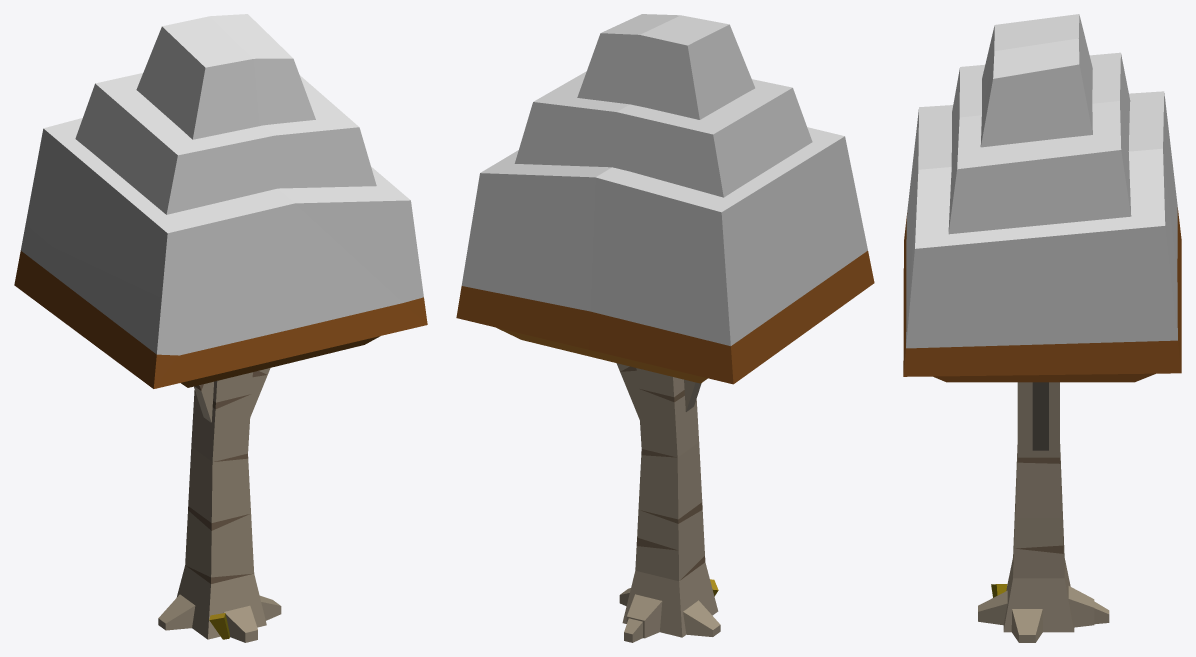
File: SF_Env_Tree_Snow_05.fbx
The picture shows the model from 3 angles, left to right: view 1: azimuth 30°, elevation 25°; view 2: azimuth 150°, elevation 25°; view 3: azimuth 270°, elevation 25°; orthographic projection.
Parts seen in each view (by area): view 1: SF_Env_Tree_Snow_05; view 2: SF_Env_Tree_Snow_05; view 3: SF_Env_Tree_Snow_05.
Part boxes in pixels (box(x1,y1,x2,y2)): SF_Env_Tree_Snow_05: box(14, 14, 427, 642); SF_Env_Tree_Snow_05: box(456, 14, 874, 642); SF_Env_Tree_Snow_05: box(903, 14, 1181, 642).
Bounding box in the file's own units: 3.53 × 7.26 × 3.11.
